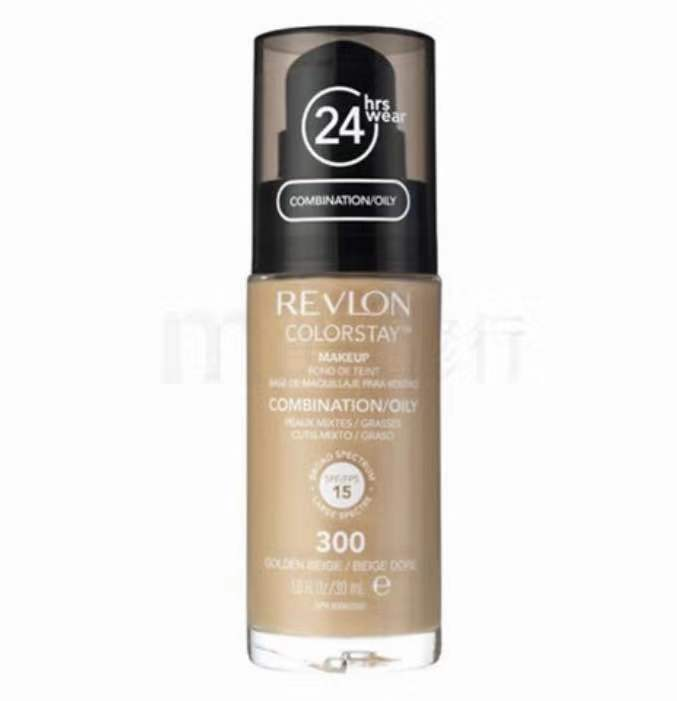cosmetic: (246, 27, 445, 663)
